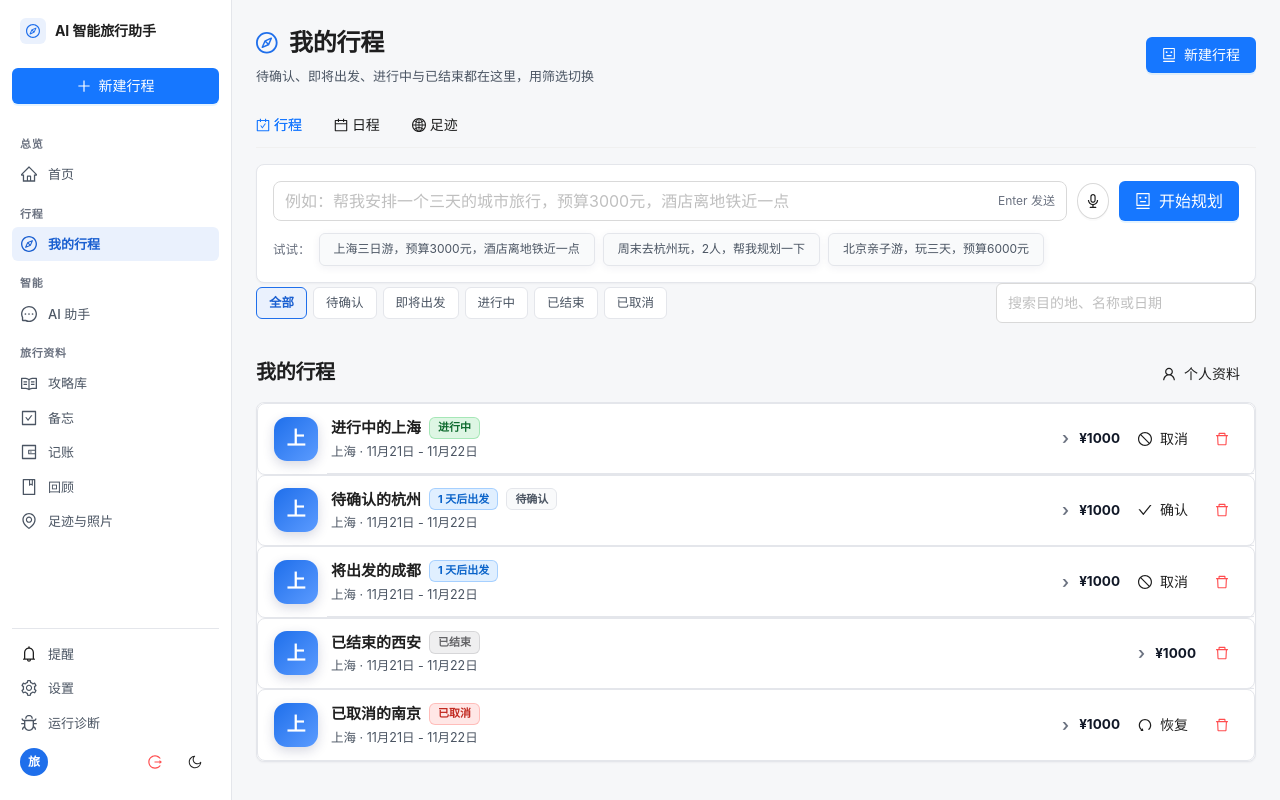
Scenario: Travel · 我的行程（筛选 / 搜索 / 分页，阶段 B） › 搜索按名称/目的地过滤，并提供清除筛选
Type "杭州" into the field named "搜索行程".
click(1118, 303); type("杭州")  # box [1008,288,1228,318]
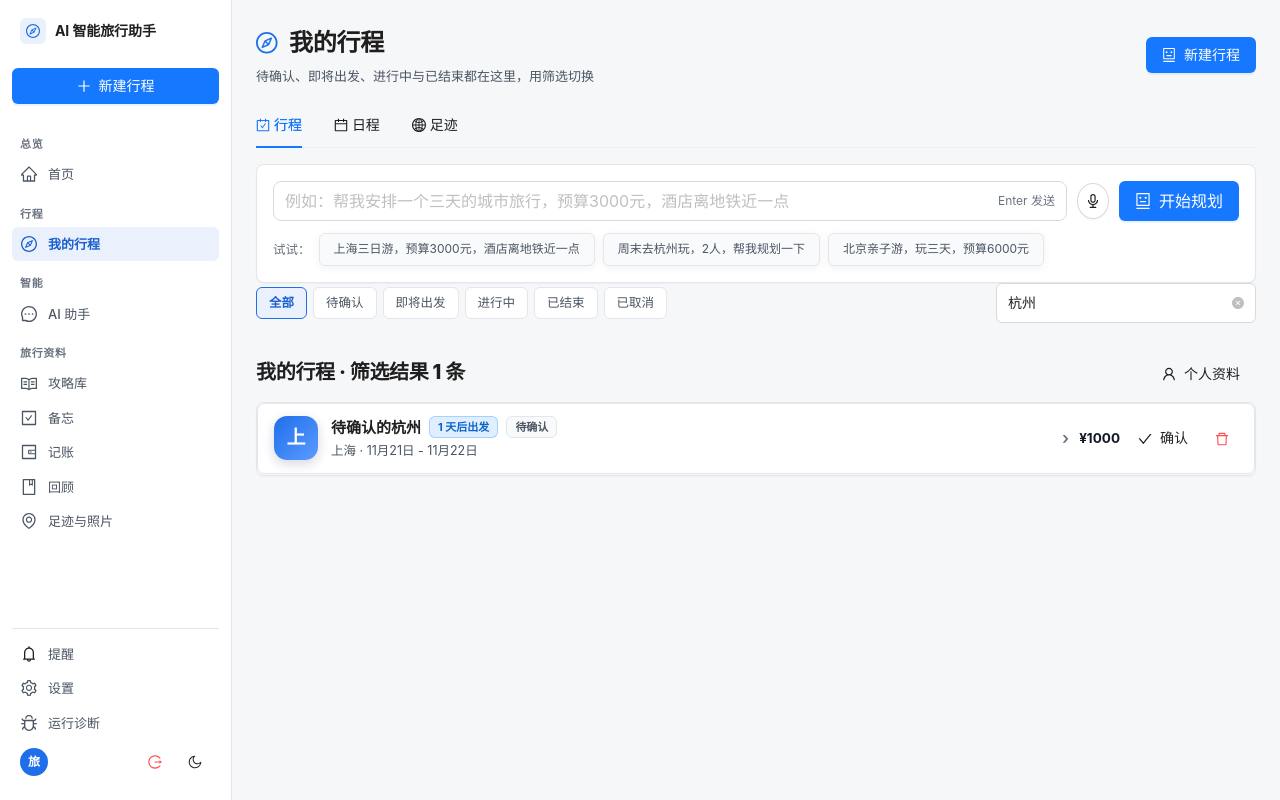
Check: the text "待确认的杭州" is shown, box [331,416,421,440]
Check: the button "将出发的成都" is gone
Replace the text in the field named "搜索行程" with "不存在的城市" at (1118, 303), box [1008,288,1228,318]
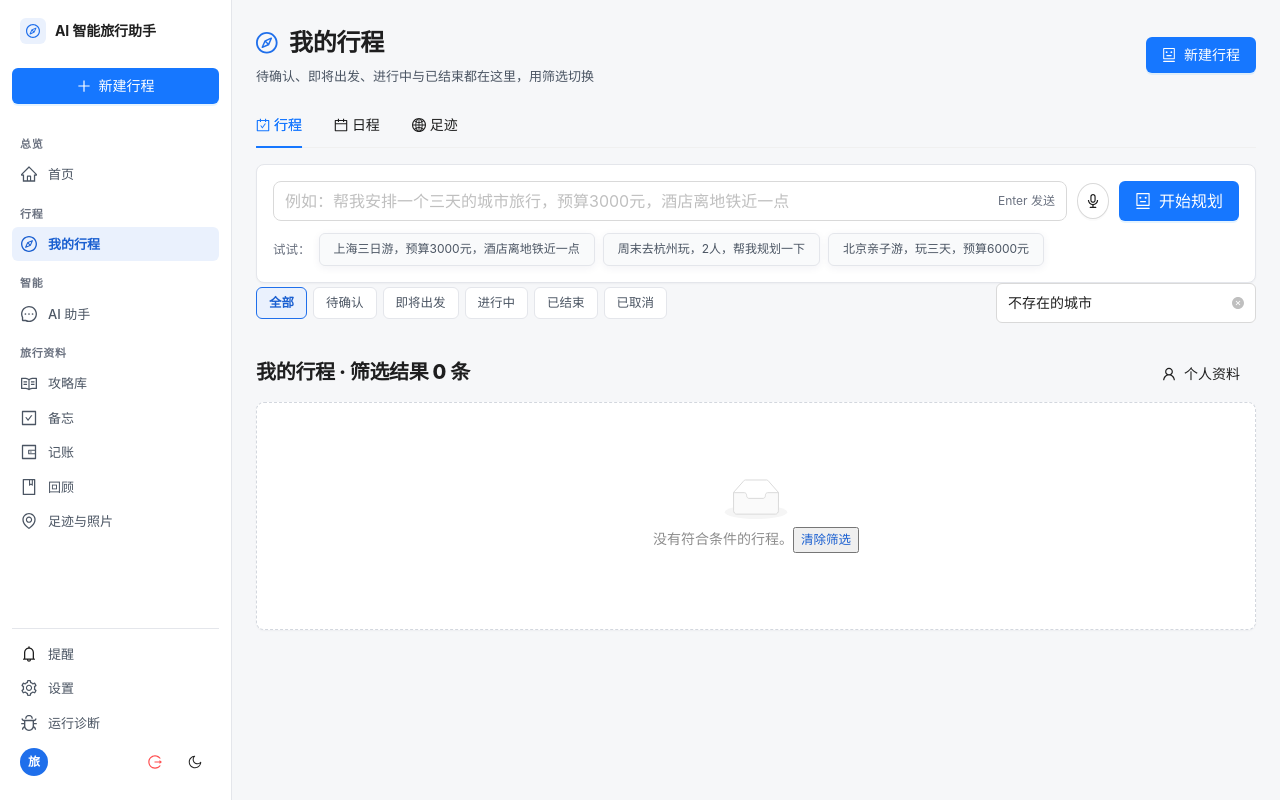
Check: the text "没有符合条件的行程。 清除筛选" is shown, box [653,530,859,547]
Click the button "清除筛选".
click(826, 540)  # box [793,527,859,553]
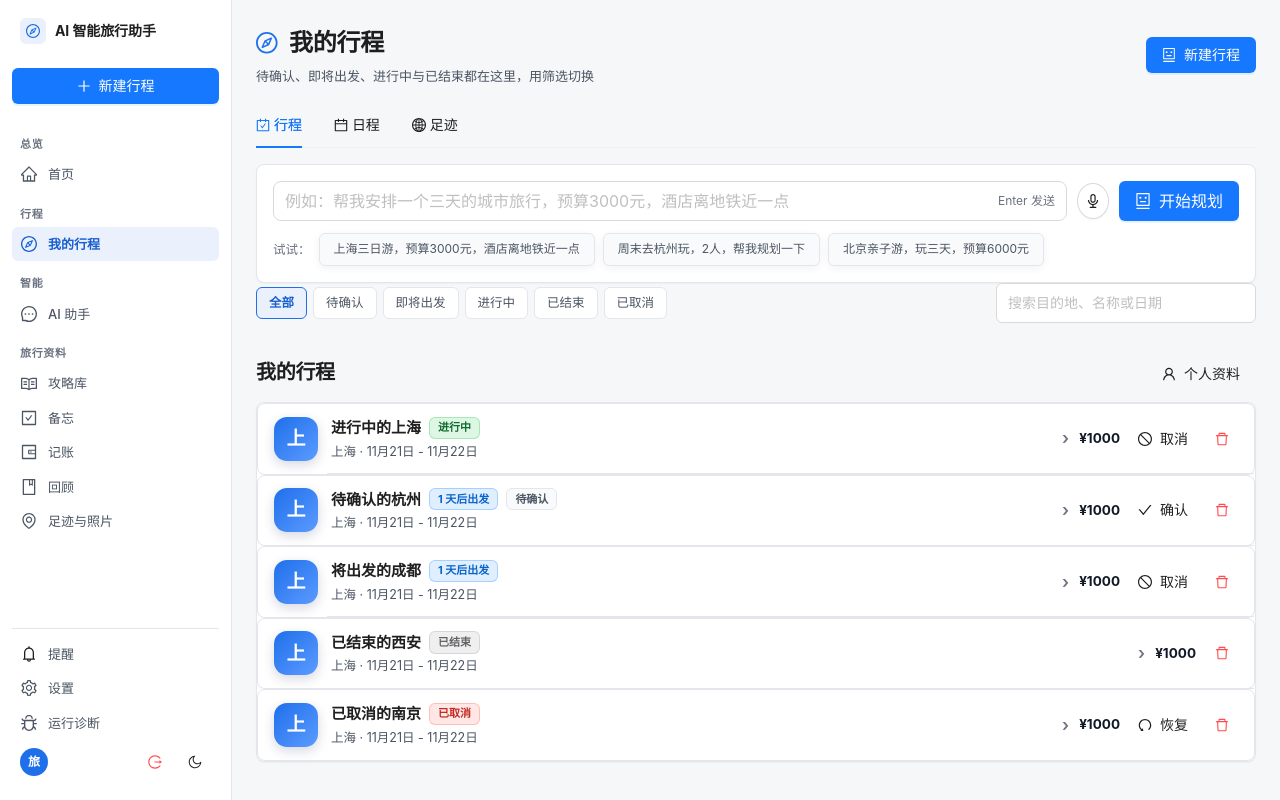
Check: the text "进行中的上海" is shown, box [331,416,421,440]
